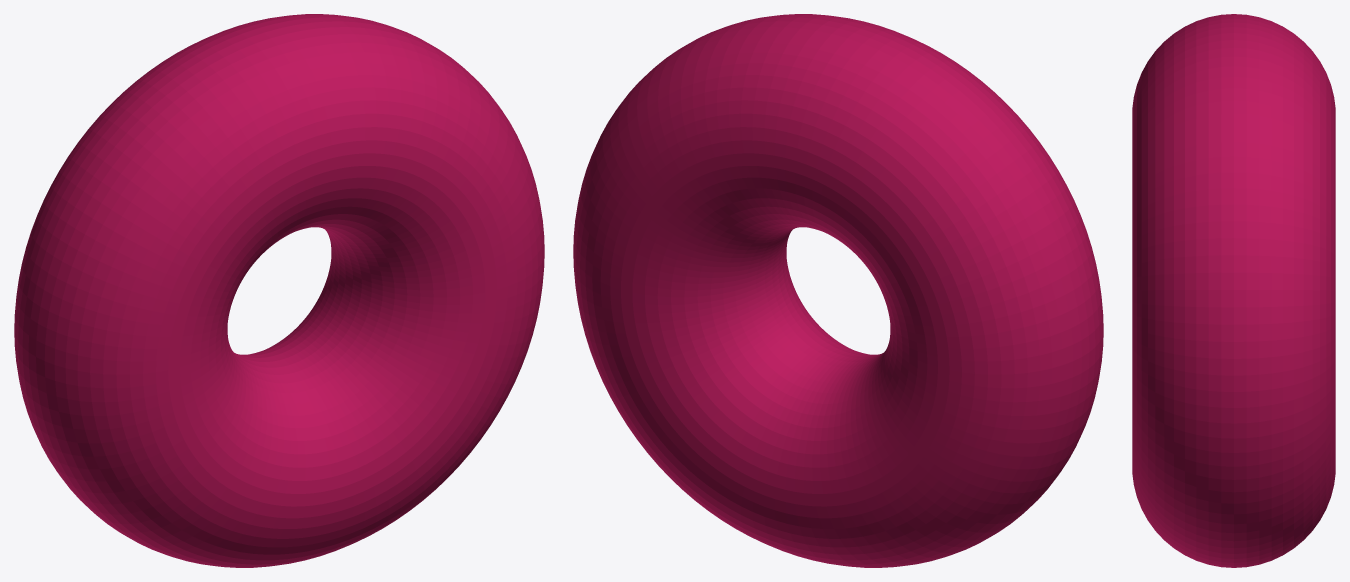
The picture shows the model from 3 angles, left to right: view 1: azimuth 30°, elevation 25°; view 2: azimuth 150°, elevation 25°; view 3: azimuth 270°, elevation 25°; orthographic projection. The views are drawn at different scales.
Parts seen in each view (by area): view 1: world; view 2: world; view 3: world.
Part boxes in pixels (x1,y1,x2,y2): world: [14, 14, 544, 567]; world: [573, 14, 1103, 567]; world: [1132, 14, 1335, 567].
Size of the model in its own units: 24.27 by 24.27 by 8.92.
